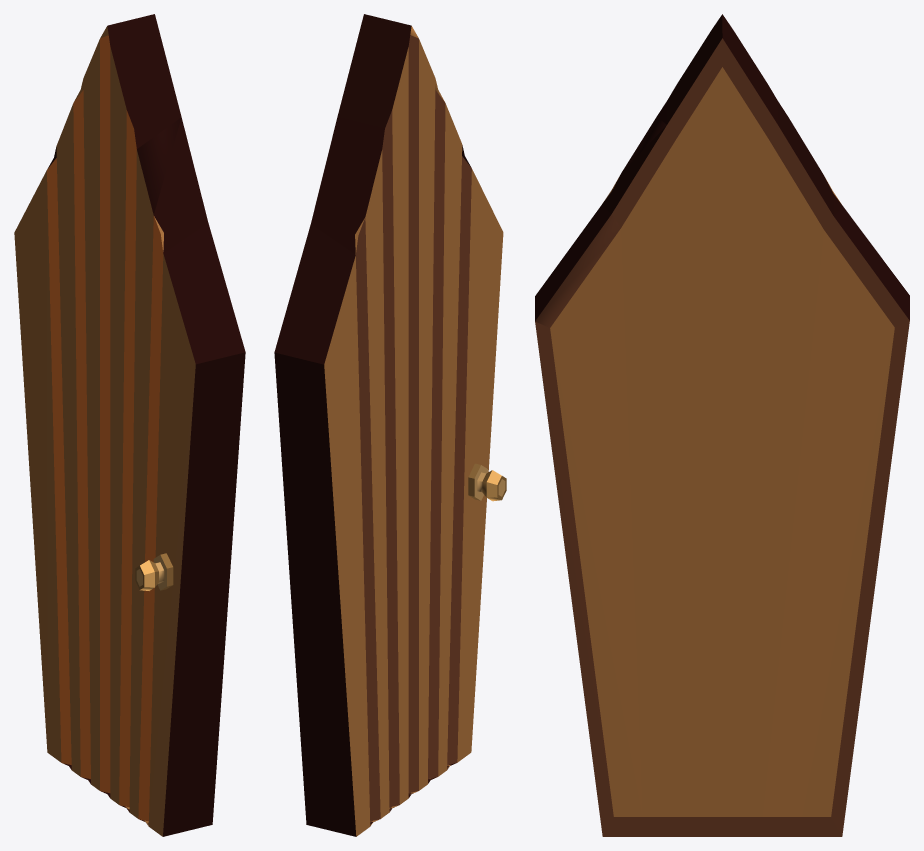
Rendered from Door_House.glb.
The picture shows the model from 3 angles, left to right: view 1: azimuth 30°, elevation 25°; view 2: azimuth 150°, elevation 25°; view 3: azimuth 270°, elevation 25°; orthographic projection. The views are drawn at different scales.
Parts seen in each view (by area): view 1: Door_House; view 2: Door_House; view 3: Door_House.
Boxes of the visible parts, bbox=[...] form: Door_House: bbox=[14, 14, 245, 836]; Door_House: bbox=[274, 14, 506, 836]; Door_House: bbox=[535, 14, 909, 836].
Size of what is drawn, in the model's own units: 0.4573 by 4.35 by 1.85.
Materials: 1 (1 with a texture image).
